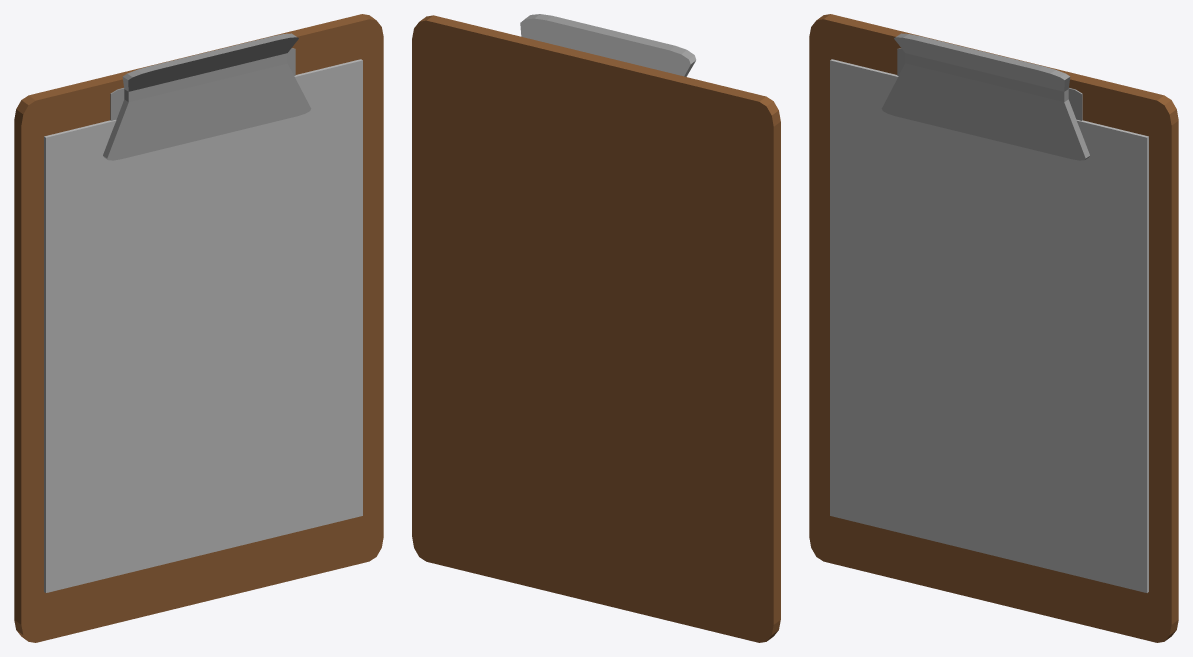
Rendered from clipboard.fbx.
3 views of the same model, side by side, from view 1: azimuth 30°, elevation 25°; view 2: azimuth 150°, elevation 25°; view 3: azimuth 330°, elevation 25° (orthographic).
Parts seen in each view (by area): view 1: Clipboard; view 2: Clipboard; view 3: Clipboard.
Part boxes in pixels (x1,y1,x2,y2): Clipboard: [14, 14, 383, 642]; Clipboard: [412, 14, 780, 642]; Clipboard: [809, 14, 1178, 642].
Size of the model in its own units: 25.31 by 2.56 by 37.19.
